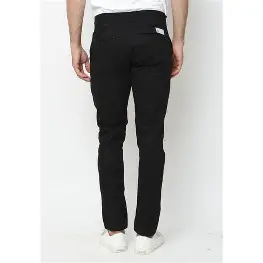kemeja_benar: (98, 14, 167, 230)
